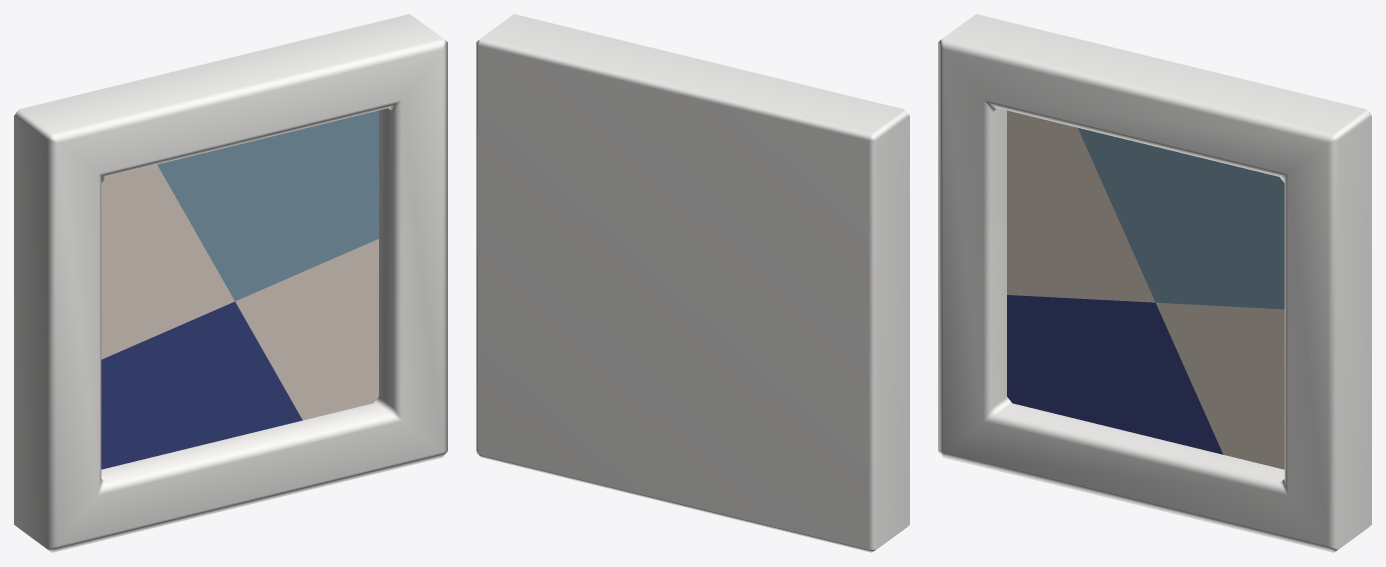
The model's file is Painting_7.glb.
3 views of the same model, side by side, from view 1: azimuth 30°, elevation 25°; view 2: azimuth 150°, elevation 25°; view 3: azimuth 330°, elevation 25° (orthographic).
Parts seen in each view (by area): view 1: Painting_7; view 2: Painting_7; view 3: Painting_7.
Boxes of the visible parts, x1=… form: Painting_7: x1=14, y1=14, x2=447, y2=552; Painting_7: x1=476, y1=14, x2=909, y2=552; Painting_7: x1=938, y1=14, x2=1371, y2=552.
Bounding box in the file's own units: 0.7892 × 0.7892 × 0.1322.
Materials: 1 (1 with a texture image).
